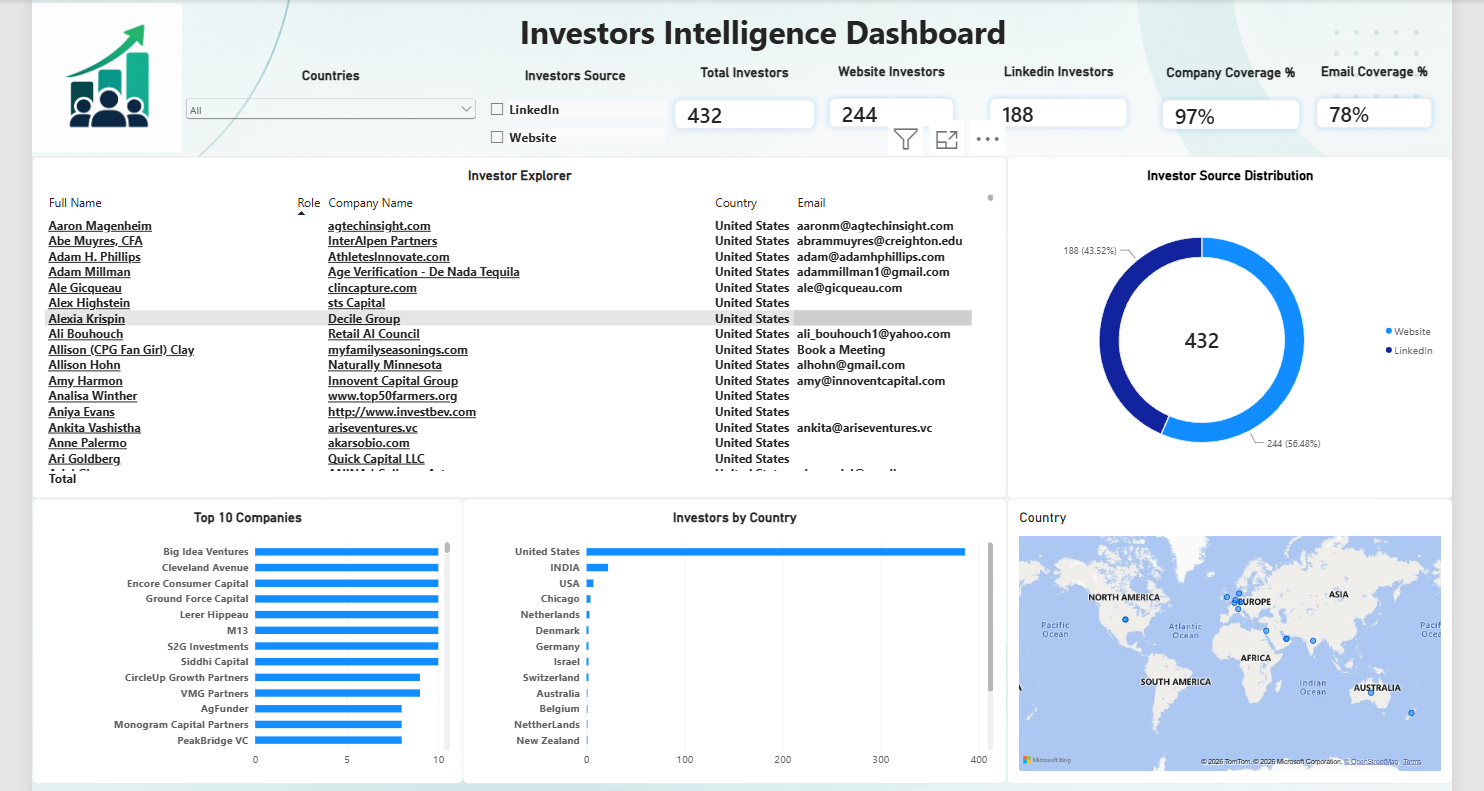

The page's visual inventory and layout, read from the dashboard file:
{"tool":"powerbi","page":{"name":"Page 1","canvas":[1920,1080],"ordinal":0},"visuals":[{"type":"slicer","title":"Investors Source","fields":{"Values":["Append1.Investors Source"]},"box":[612.5,92.5,244,120],"z":0},{"type":"cardVisual","title":"Total Investors","fields":{"Data":["Count(Append1.Full Name)"]},"box":[857.5,90,211.2,97.7],"z":1000},{"type":"cardVisual","title":"Website Investors","fields":{"Data":["Append1.Website Investors"]},"box":[1067.5,87.5,190.8,97.7],"z":2000},{"type":"cardVisual","title":"Linkedin Investors","fields":{"Data":["Append1.LinkedIn Investors"]},"box":[1282.5,87.5,209,97.7],"z":3000},{"type":"slicer","title":"Countries","fields":{"Values":["Append1.Country"]},"box":[202.5,92.5,402.5,120],"z":4000},{"type":"clusteredBarChart","title":"Investors by Country","fields":{"Category":["Append1.Country"],"Y":["Count(Append1.Full Name)"]},"box":[582.5,675,735,385],"z":5000},{"type":"clusteredBarChart","title":"Top 10 Companies","fields":{"Category":["Append1.Company Name"],"Y":["CountNonNull(Append1.Full Name)"]},"box":[0,675,582.5,385],"z":6000},{"type":"donutChart","title":"Investor Source Distribution","fields":{"Category":["Append1.Investors Source"],"Y":["Count(Append1.Full Name)"]},"box":[1317.5,212.5,602.5,462.5],"z":7000},{"type":"tableEx","title":"Investor Explorer","fields":{"Values":["Append1.Full Name","Append1.Role","Append1.Company Name","Append1.Country","Append1.Email"]},"box":[0,212.5,1317.5,462.5],"z":8000},{"type":"cardVisual","title":"Email Coverage %","fields":{"Data":["Append1.Email Coverage %"]},"box":[1725,87.5,178,98],"z":9000},{"type":"cardVisual","title":"Company Coverage %","fields":{"Data":["Append1.Company Coverage %"]},"box":[1517.5,90,208,98],"z":10000},{"type":"textbox","box":[0,15,142.5,150],"z":11000},{"type":"image","box":[0,0,202.5,212.5],"z":12000},{"type":"textbox","box":[100,15,1735,72.5],"z":13000},{"type":"map","fields":{"Category":["Append1.Country"]},"box":[1317.5,675,602.5,385],"z":14000}]}

Visuals, with their boxes on the page's 1920x1080 design canvas (x1, y1, x2, y2). These are canvas units, not pixel positions in the 1484x791 screenshot, which may show the page scaled, cropped or inside an application window:
"Investors Source" slicer: BBox(612, 92, 856, 212)
"Total Investors" cardVisual: BBox(858, 90, 1069, 188)
"Website Investors" cardVisual: BBox(1068, 88, 1258, 185)
"Linkedin Investors" cardVisual: BBox(1282, 88, 1492, 185)
"Countries" slicer: BBox(202, 92, 605, 212)
"Investors by Country" clusteredBarChart: BBox(582, 675, 1318, 1060)
"Top 10 Companies" clusteredBarChart: BBox(0, 675, 582, 1060)
"Investor Source Distribution" donutChart: BBox(1318, 212, 1920, 675)
"Investor Explorer" tableEx: BBox(0, 212, 1318, 675)
"Email Coverage %" cardVisual: BBox(1725, 88, 1903, 186)
"Company Coverage %" cardVisual: BBox(1518, 90, 1726, 188)
textbox: BBox(0, 15, 142, 165)
image: BBox(0, 0, 202, 212)
textbox: BBox(100, 15, 1835, 88)
map - Append1.Country: BBox(1318, 675, 1920, 1060)
